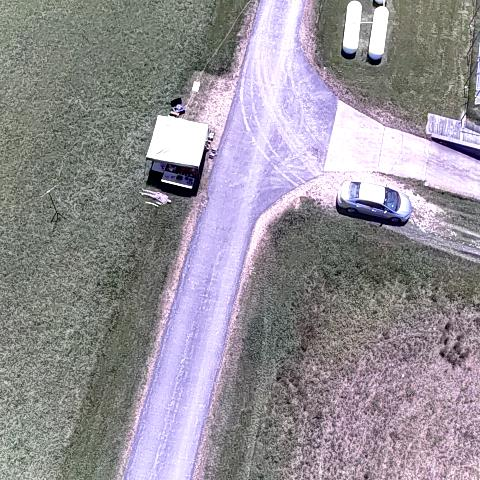person: (138, 185, 176, 206)
